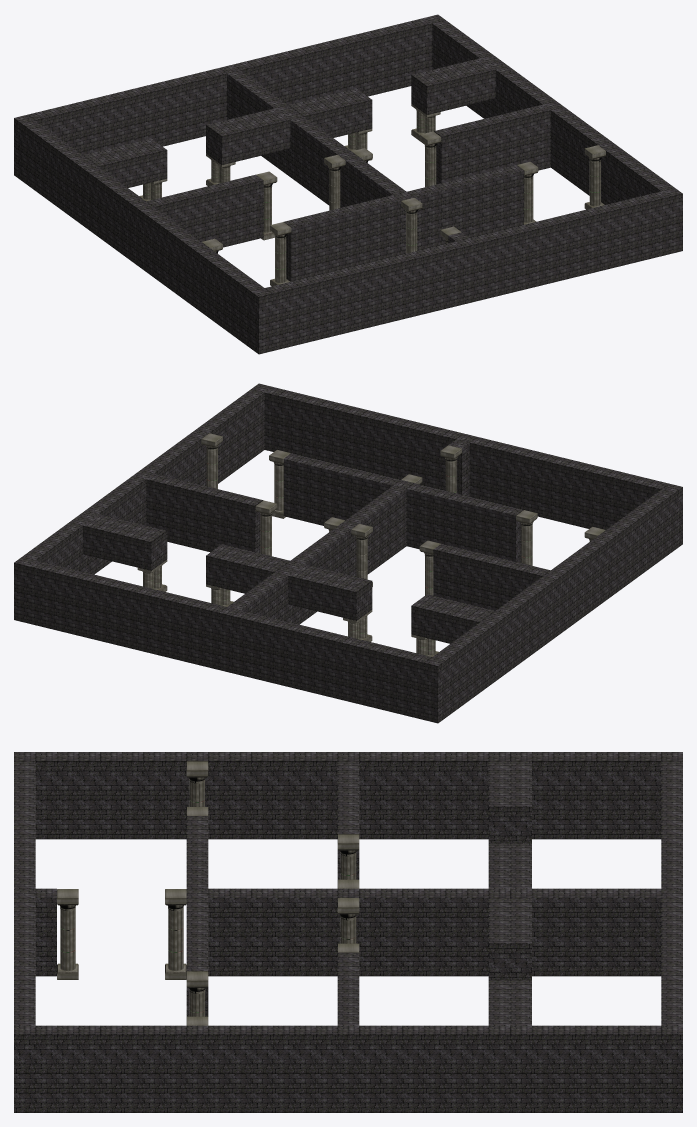
The model's file is stage1_1.FBX.
The picture shows the model from 3 angles, top to bottom: view 1: azimuth 30°, elevation 25°; view 2: azimuth 150°, elevation 25°; view 3: azimuth 270°, elevation 25°; orthographic projection. The views are drawn at different scales.
Visible parts, largest first — view 1: stage1_1; view 2: stage1_1; view 3: stage1_1.
Boxes of the visible parts, x1,y1,x2,y2 form: stage1_1: (14, 14, 682, 354); stage1_1: (14, 383, 682, 723); stage1_1: (14, 752, 682, 1112).
Size of the model in its own units: 1220 by 165 by 1220.
3 materials, 3 textured.
